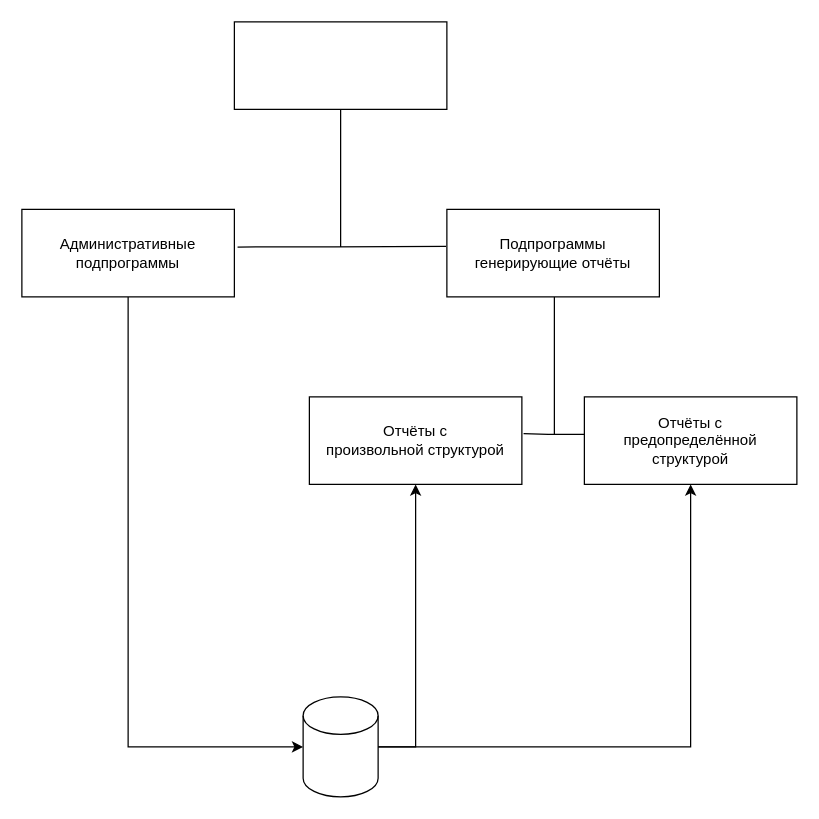
The diagram is 819 pixels wide and 819 high, and some of its shapes have lost their labels. Each missing label, with the centre of its shape:
"ReportManager основной модуль" belongs at (340,65).
"База данных" belongs at (340,746).
